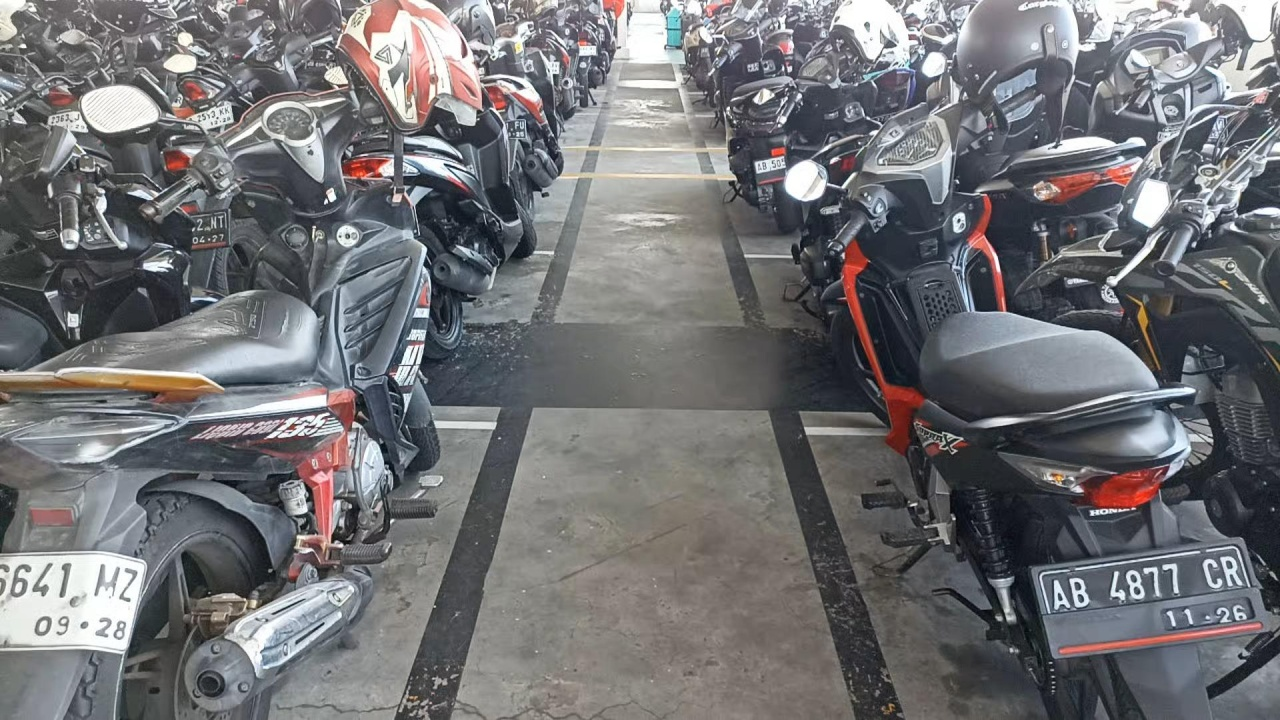plate: (1034, 542, 1267, 658)
